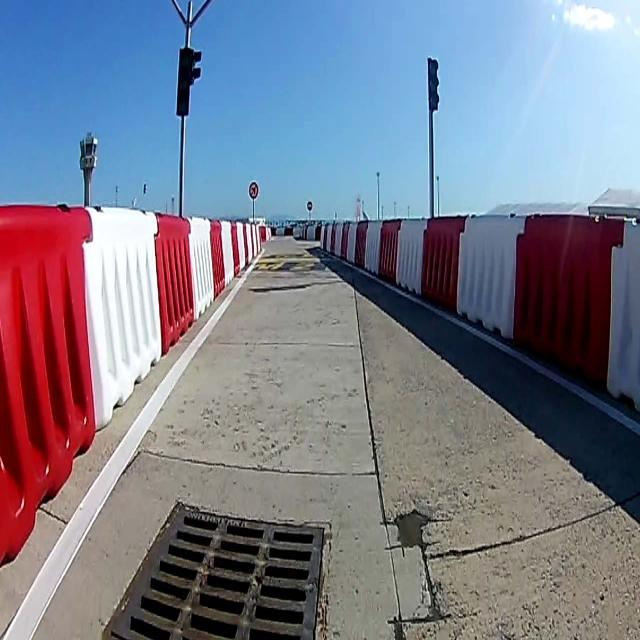soladonulmez: (248, 181, 259, 200)
